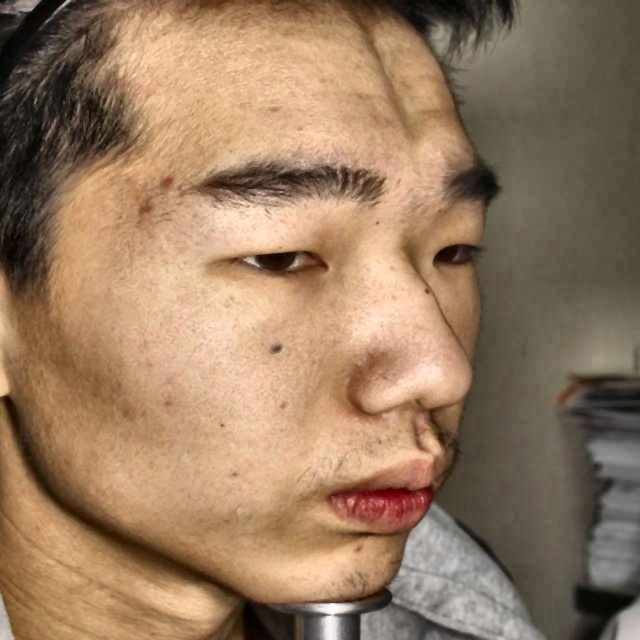comedone: (128, 188, 166, 236), (158, 158, 183, 196)
